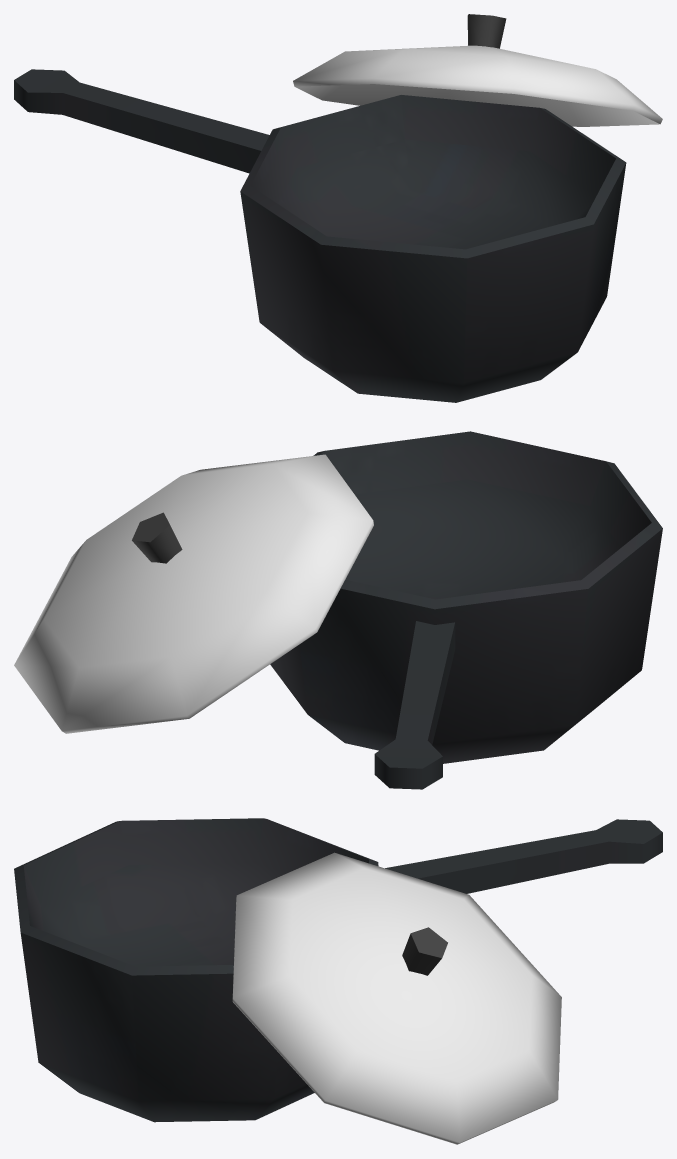
3 renders of one model, top to bottom at view 1: azimuth 30°, elevation 25°; view 2: azimuth 150°, elevation 25°; view 3: azimuth 270°, elevation 25°, orthographic. The views are drawn at different scales.
Visible parts, largest first — view 1: Olla001_Metal_04001_0, t002_Material008_0, t002_Material007_0; view 2: Olla001_Metal_04001_0, t002_Material008_0, t002_Material007_0; view 3: Olla001_Metal_04001_0, t002_Material008_0, t002_Material007_0.
Boxes of the visible parts, bbox=[...] form: Olla001_Metal_04001_0: bbox=[14, 69, 626, 402]; t002_Material008_0: bbox=[293, 45, 662, 126]; t002_Material007_0: bbox=[467, 14, 506, 48]; Olla001_Metal_04001_0: bbox=[270, 431, 662, 789]; t002_Material008_0: bbox=[14, 454, 373, 733]; t002_Material007_0: bbox=[132, 512, 182, 563]; Olla001_Metal_04001_0: bbox=[14, 818, 662, 1122]; t002_Material008_0: bbox=[232, 852, 561, 1144]; t002_Material007_0: bbox=[402, 927, 447, 975].
Size of the model in its own units: 0.5249 by 0.233 by 0.5979.
3 materials, 1 textured.
